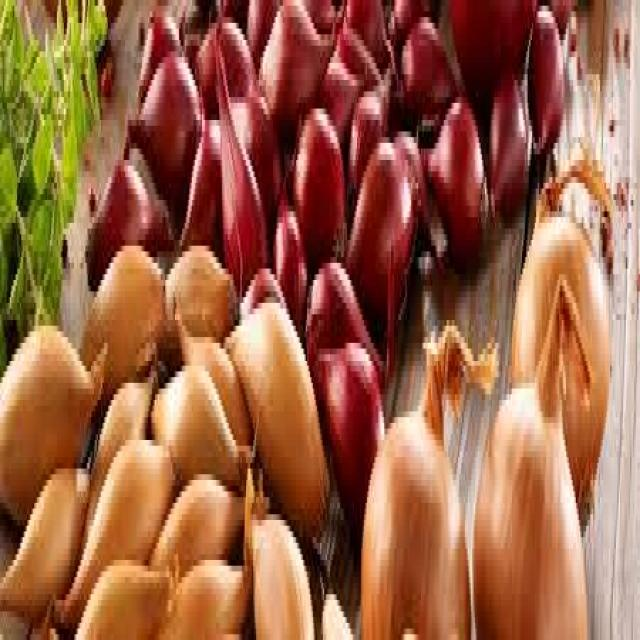organic waste: (360, 309, 499, 634), (471, 274, 593, 634), (510, 154, 614, 503), (0, 0, 107, 320), (45, 429, 178, 634), (224, 303, 332, 543), (303, 234, 398, 503), (0, 320, 112, 520), (148, 360, 257, 503), (340, 120, 417, 320), (0, 451, 92, 605), (169, 280, 249, 446), (214, 17, 262, 292), (120, 40, 198, 206), (145, 452, 250, 572), (81, 354, 161, 509), (240, 463, 312, 634), (418, 86, 488, 251), (84, 160, 171, 280), (65, 549, 184, 634), (162, 217, 235, 354), (256, 0, 333, 120), (283, 97, 341, 252), (161, 549, 259, 634), (447, 0, 529, 97), (347, 46, 394, 206), (392, 11, 457, 126), (267, 143, 303, 331), (487, 68, 528, 228), (320, 23, 378, 131), (230, 86, 283, 200), (526, 0, 563, 160), (179, 103, 216, 246), (194, 23, 253, 108), (135, 0, 175, 109), (394, 131, 434, 223), (344, 0, 390, 63), (45, 0, 123, 34), (385, 0, 436, 51), (235, 257, 276, 320), (177, 0, 210, 69), (245, 0, 277, 63), (307, 0, 341, 51), (320, 583, 353, 634), (0, 120, 16, 217), (60, 97, 74, 206), (67, 0, 88, 69), (68, 68, 87, 143), (27, 194, 51, 246), (29, 51, 52, 103), (44, 246, 61, 308), (7, 257, 30, 297), (31, 120, 51, 166), (4, 29, 17, 97), (97, 40, 112, 80), (0, 6, 14, 40), (86, 57, 96, 103), (88, 0, 101, 23)
